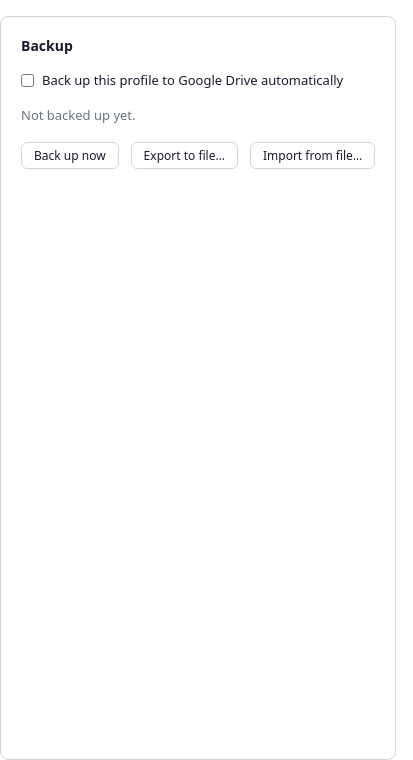
Test case: BackupSection — back up now › stale-writer skip: the recorded error is toasted and rendered as an alert
Click the button "Back up now".
click(70, 155)  # box [21,142,119,168]
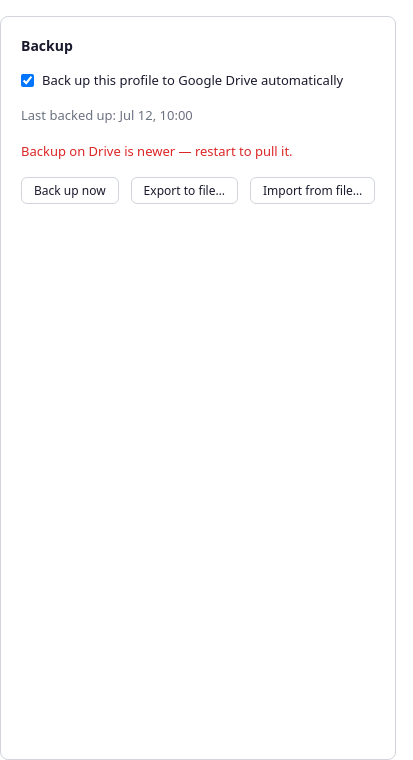
Result: the message reads "Backup on Drive is newer — restart to pull it." at [21,142,293,160]
